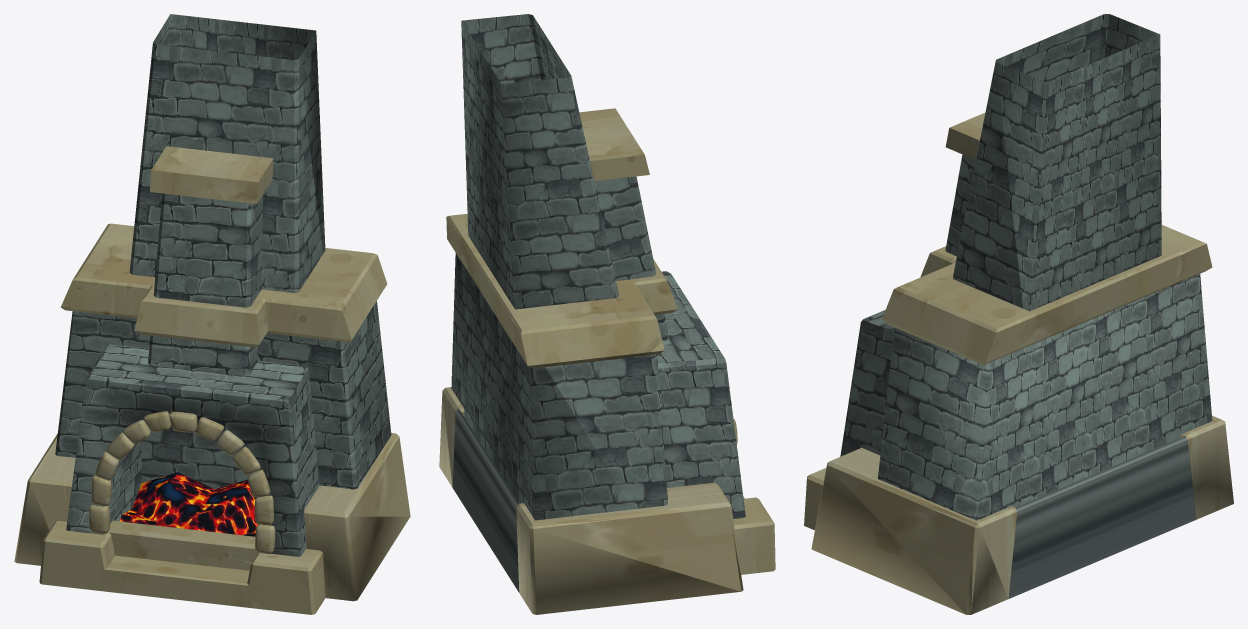
Rendered from Fireplace.fbx.
3 renders of one model, left to right at view 1: azimuth 30°, elevation 25°; view 2: azimuth 150°, elevation 25°; view 3: azimuth 270°, elevation 25°, orthographic. The views are drawn at different scales.
Visible parts, largest first — view 1: 1_Fireplace; view 2: 1_Fireplace; view 3: 1_Fireplace.
Part boxes in pixels (x1=…): 1_Fireplace: x1=14, y1=14, x2=410, y2=614; 1_Fireplace: x1=439, y1=14, x2=775, y2=614; 1_Fireplace: x1=804, y1=14, x2=1233, y2=614.
Bounding box in the file's own units: 242 × 315 × 244.
